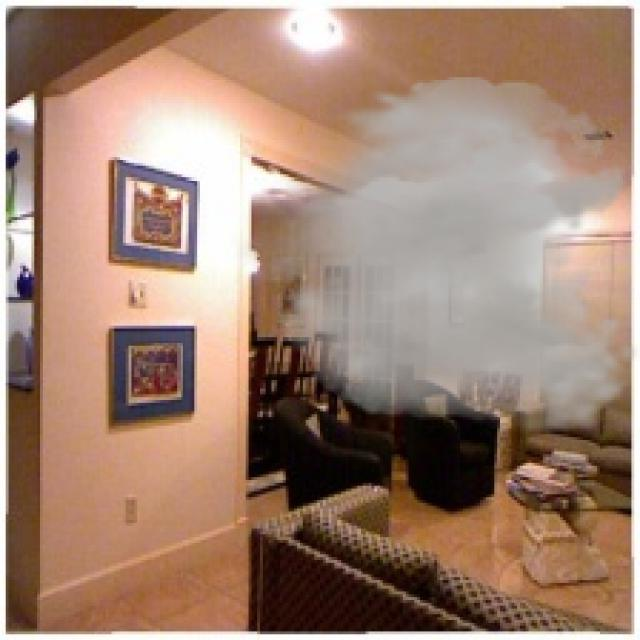smoke: (229, 77, 637, 437)
